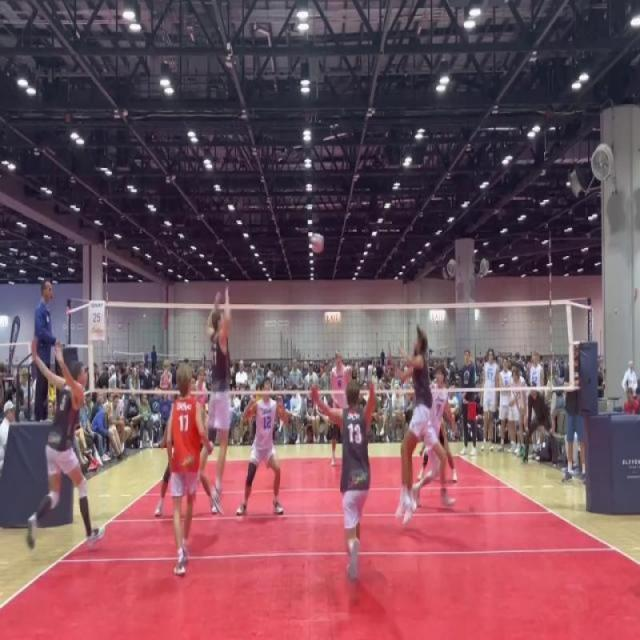volleyball: (308, 228, 326, 258)
